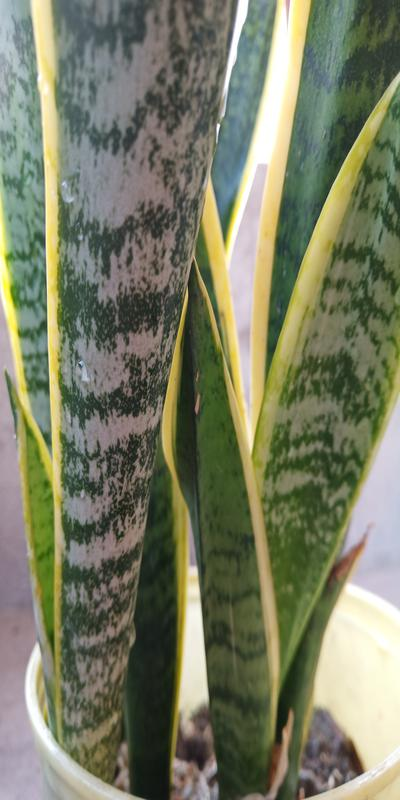Snake plant: (17, 1, 381, 719)
